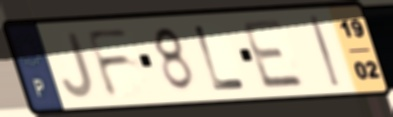8: (151, 24, 197, 94)
E: (238, 16, 309, 92)
F: (83, 26, 134, 100)
I: (306, 13, 343, 89)
J: (59, 30, 97, 101)
L: (191, 22, 249, 93)
